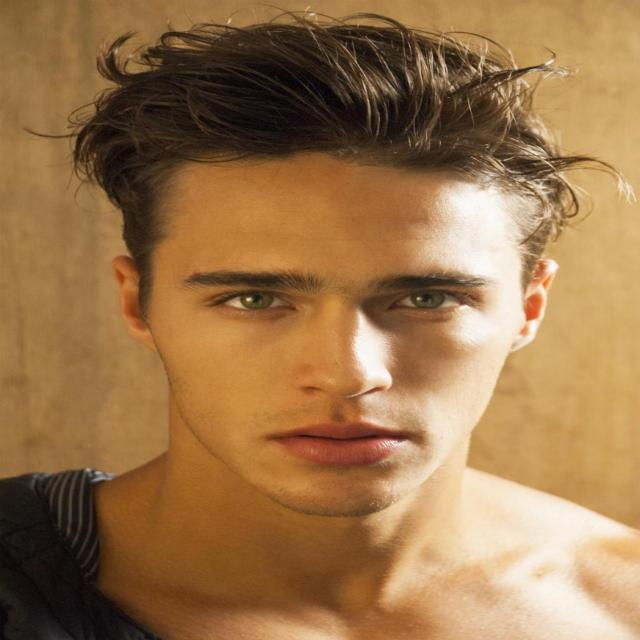front: (174, 232, 529, 478)
